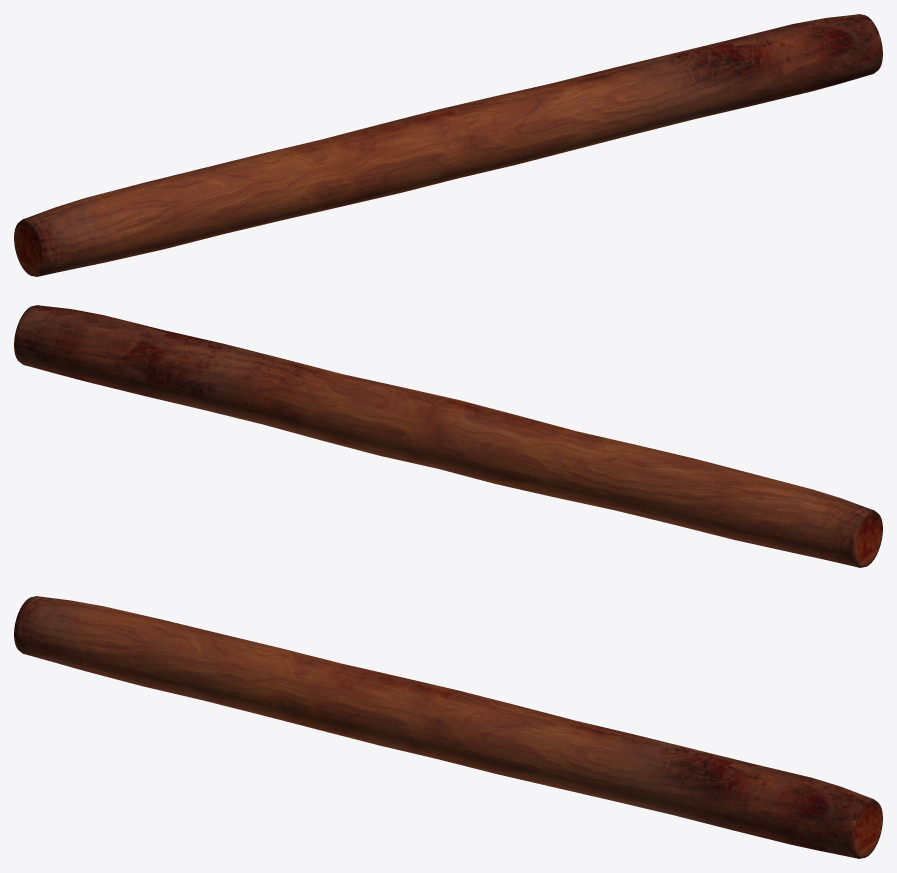
The model's file is SM_WoodenSmoothingRollerw.fbx.
3 views of the same model, one above another, from view 1: azimuth 30°, elevation 25°; view 2: azimuth 150°, elevation 25°; view 3: azimuth 330°, elevation 25° (orthographic).
Visible parts, largest first — view 1: SM_WoodenSmoothingRollerw; view 2: SM_WoodenSmoothingRollerw; view 3: SM_WoodenSmoothingRollerw.
Boxes of the visible parts, x1,y1,x2,y2 form: SM_WoodenSmoothingRollerw: (14,14,882,276); SM_WoodenSmoothingRollerw: (14,305,882,567); SM_WoodenSmoothingRollerw: (14,596,882,858).
Bounding box in the file's own units: 88.88 × 6.52 × 7.17.
Materials: 1 (1 with a texture image).
